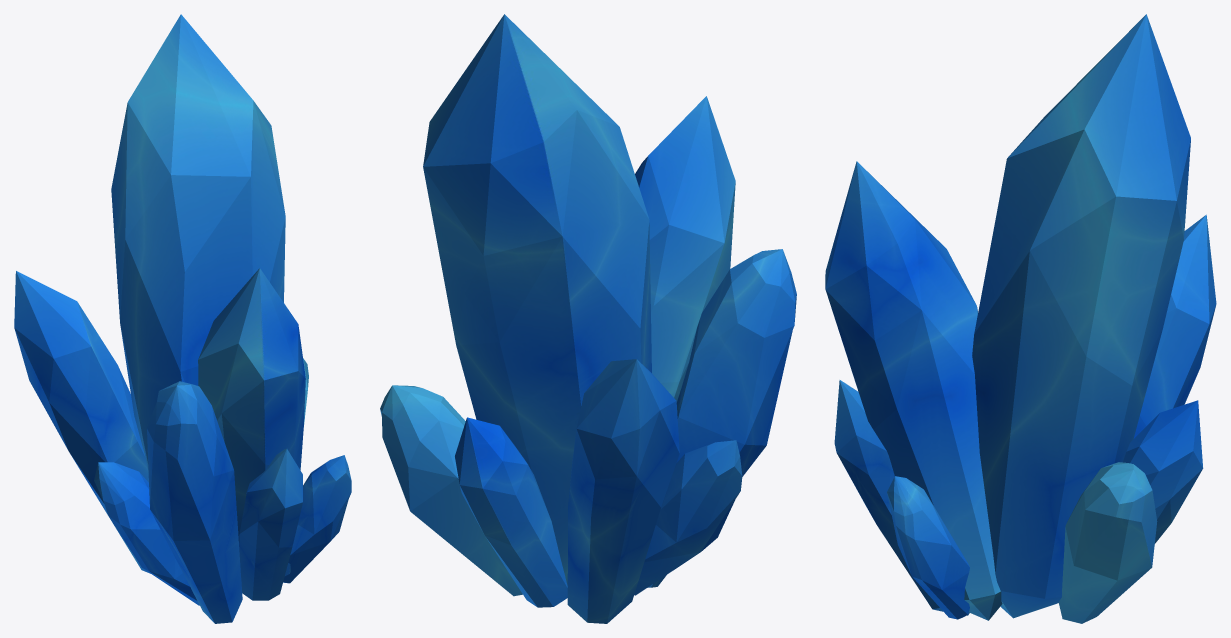
Rendered from crystal.gltf.
3 renders of one model, left to right at view 1: azimuth 30°, elevation 25°; view 2: azimuth 150°, elevation 25°; view 3: azimuth 270°, elevation 25°, orthographic. The views are drawn at different scales.
Parts seen in each view (by area): view 1: Cristales; view 2: Cristales; view 3: Cristales.
Boxes of the visible parts, box(x1,y1,x2,y2) form: Cristales: box(14, 14, 351, 623); Cristales: box(380, 14, 796, 623); Cristales: box(825, 14, 1216, 623).
Bounding box in the file's own units: 5.1 × 9.91 × 5.66.
Materials: 1 (1 with a texture image).
